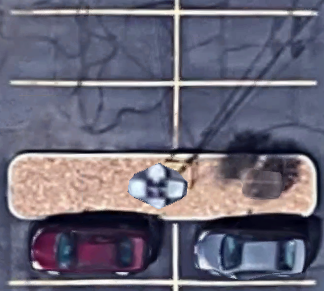Occupied: (7, 218, 175, 282), (175, 218, 316, 284)
Vacant: (9, 11, 177, 84), (9, 82, 176, 155), (176, 83, 317, 156), (176, 12, 317, 83)
